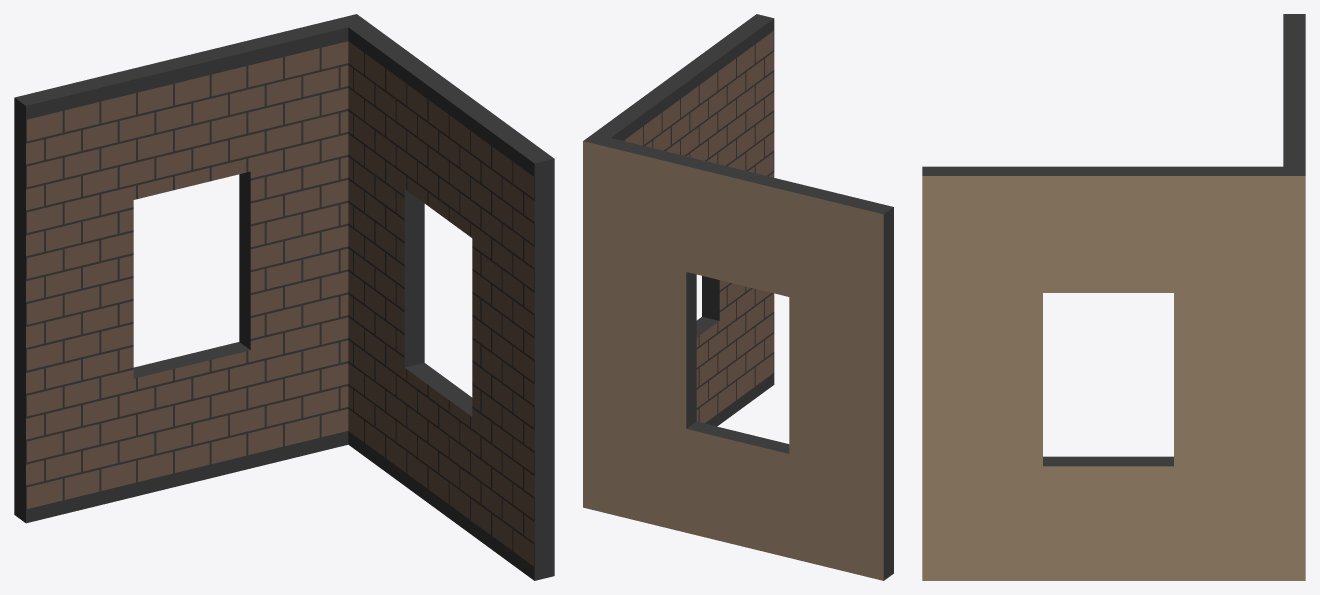
File: Wall3_C10_09.fbx
3 views of the same model, side by side, from view 1: azimuth 30°, elevation 25°; view 2: azimuth 150°, elevation 25°; view 3: azimuth 270°, elevation 25° (orthographic). The views are drawn at different scales.
Parts seen in each view (by area): view 1: Wall3_C10_09; view 2: Wall3_C10_09; view 3: Wall3_C10_09.
Boxes of the visible parts, x1,y1,x2,y2 form: Wall3_C10_09: (14,14,554,580); Wall3_C10_09: (583,14,893,580); Wall3_C10_09: (922,14,1305,580).
Size of the model in its own units: 258 by 300 by 258.
